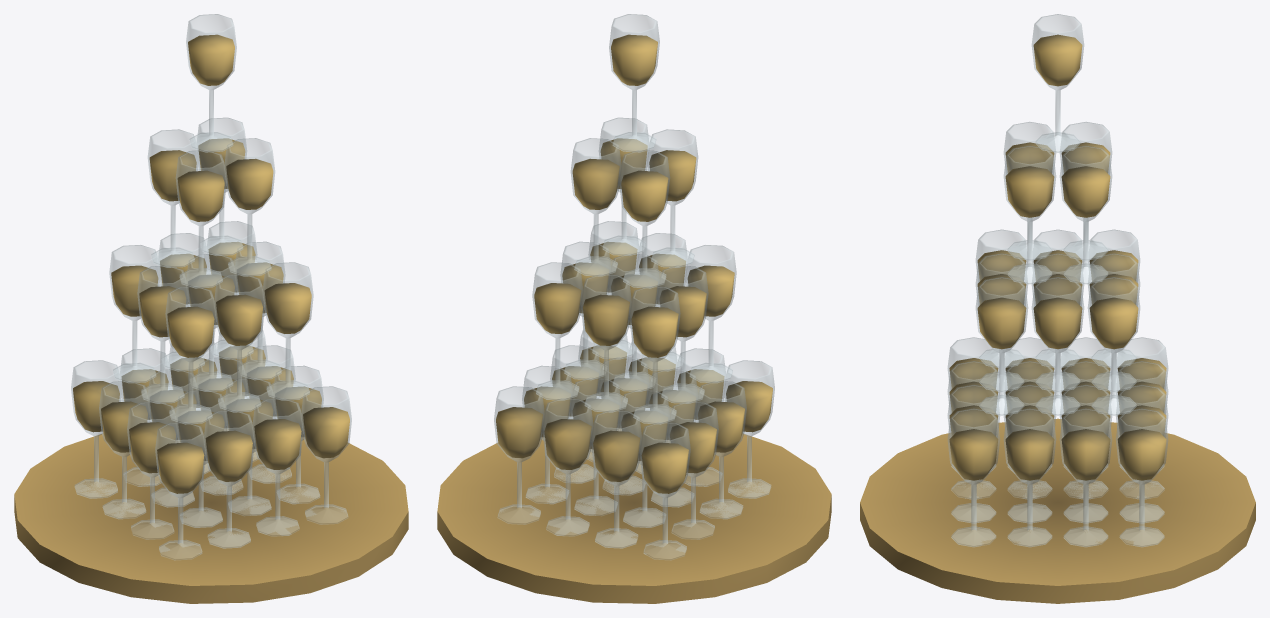
File: thap-ly.glb
3 renders of one model, left to right at view 1: azimuth 30°, elevation 25°; view 2: azimuth 150°, elevation 25°; view 3: azimuth 270°, elevation 25°, orthographic.
Parts seen in each view (by area): view 1: thap-ly; view 2: thap-ly; view 3: thap-ly.
Boxes of the visible parts, <box> form: thap-ly: <box>14,14,408,603</box>; thap-ly: <box>437,14,831,603</box>; thap-ly: <box>860,14,1255,603</box>.
Size of the model in its own units: 0.6 by 0.83 by 0.6.
